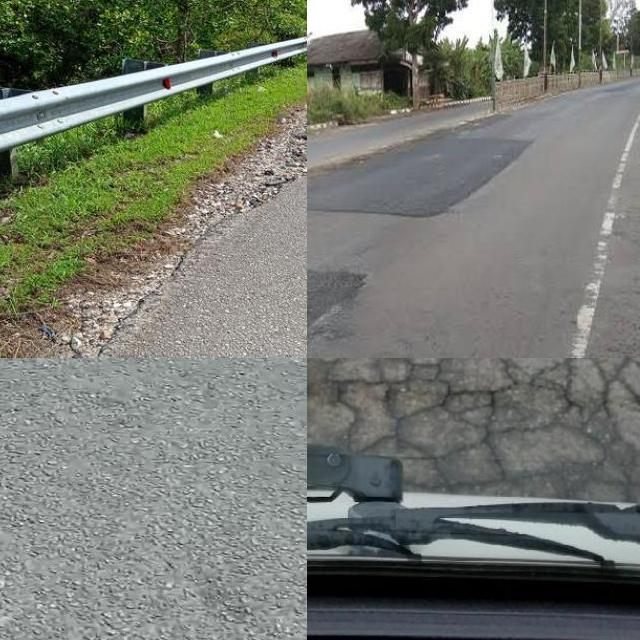Pinggir: (0, 88, 307, 358)
Retak Buaya: (307, 358, 640, 501)
Sambungan: (307, 138, 533, 219)
